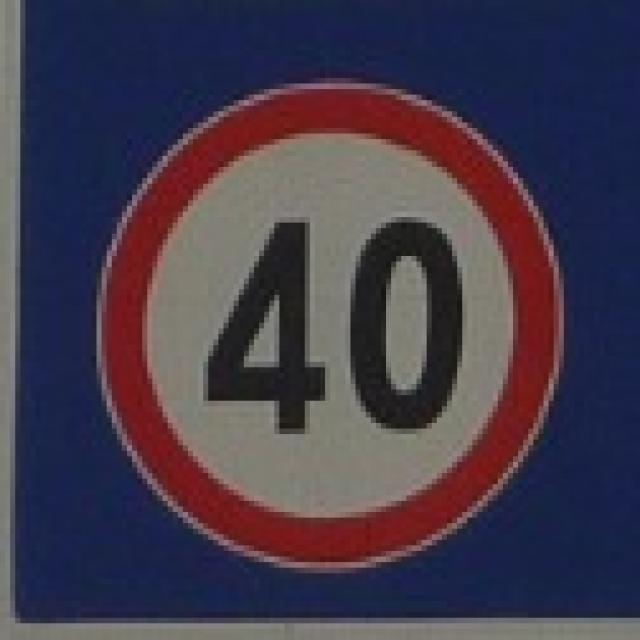Speed Limit -40-: (192, 200, 470, 447)
